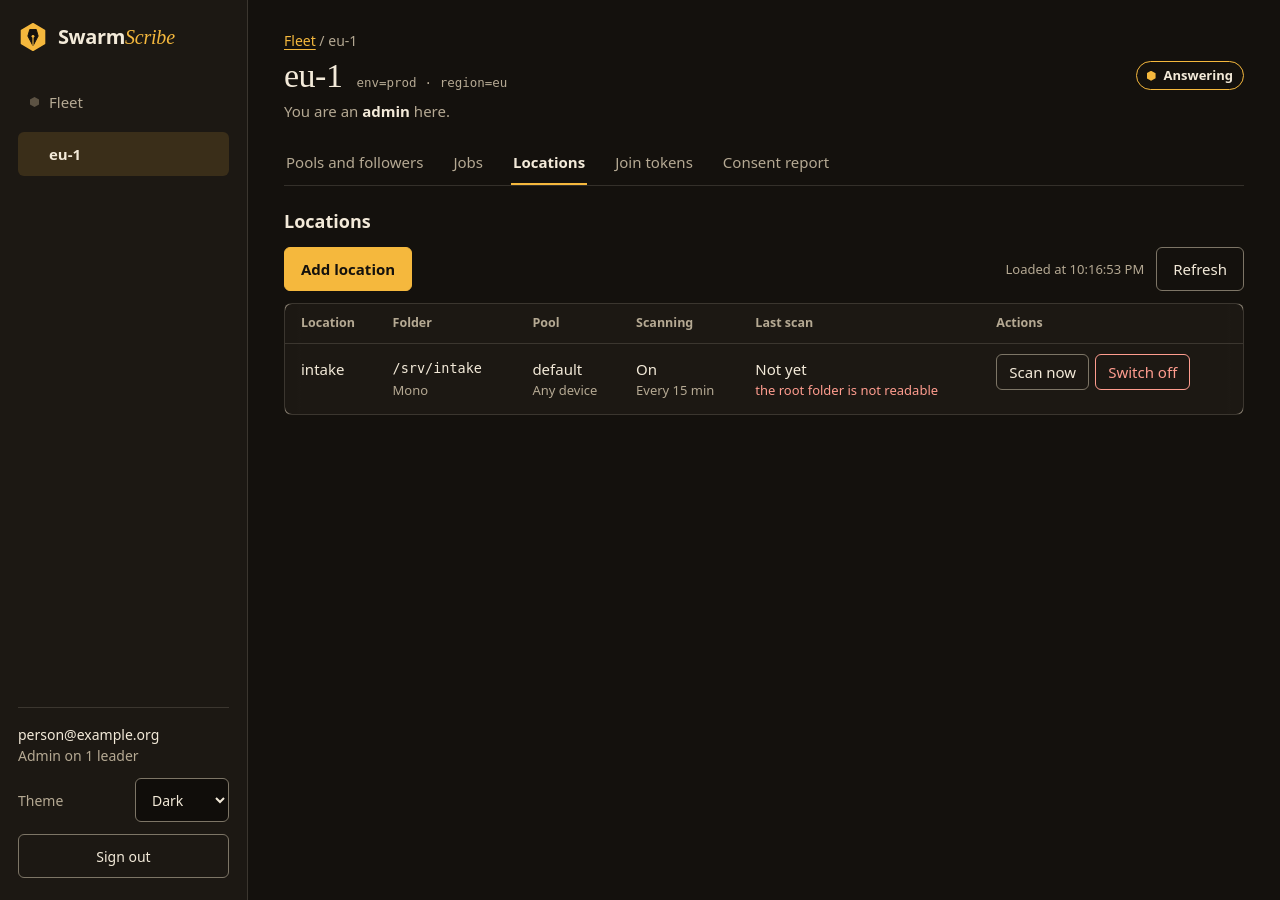
Scenario: locations tab › shows fixed text for a server 422, never the server's field paths
The image size is (1280, 900).
Click the button "Add location".
click(348, 269)  # box [284,247,412,291]
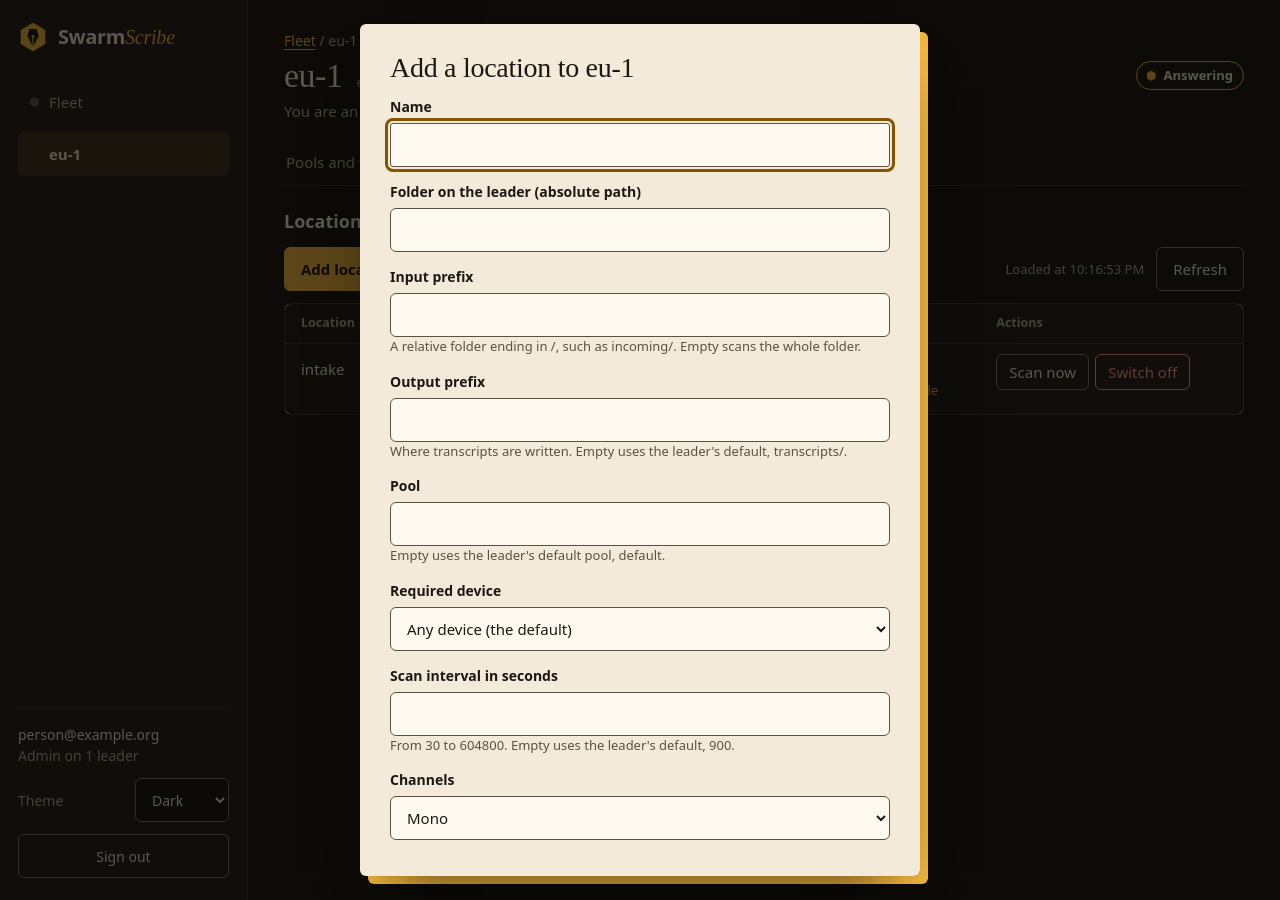
Type "calls" into the field labelled "Name".
click(640, 145); type("calls")  # box [390,123,890,167]
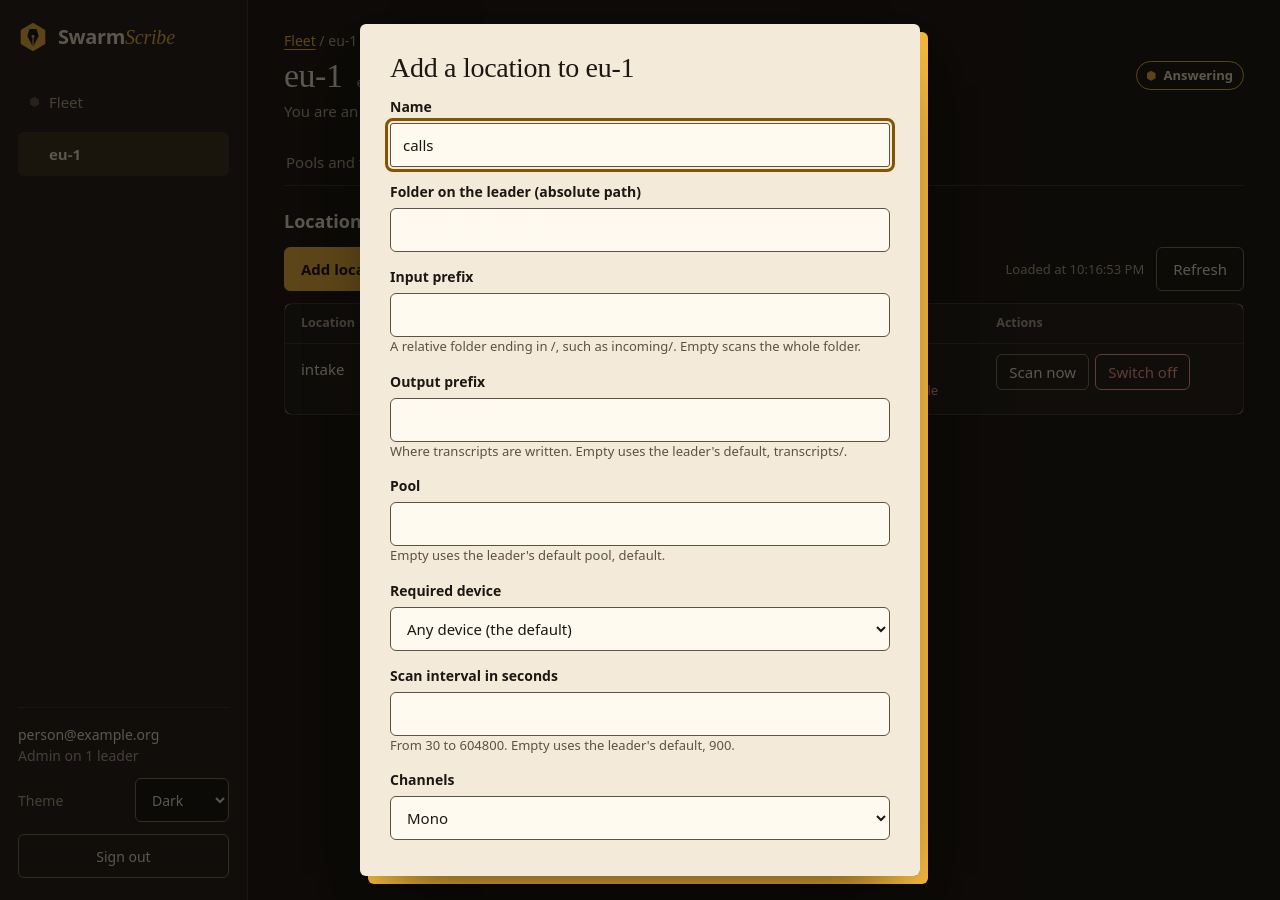
Type "/srv/calls" into the field labelled "Folder on the leader (absolute path)".
click(640, 230); type("/srv/calls")  # box [390,208,890,252]
(page scrolled)
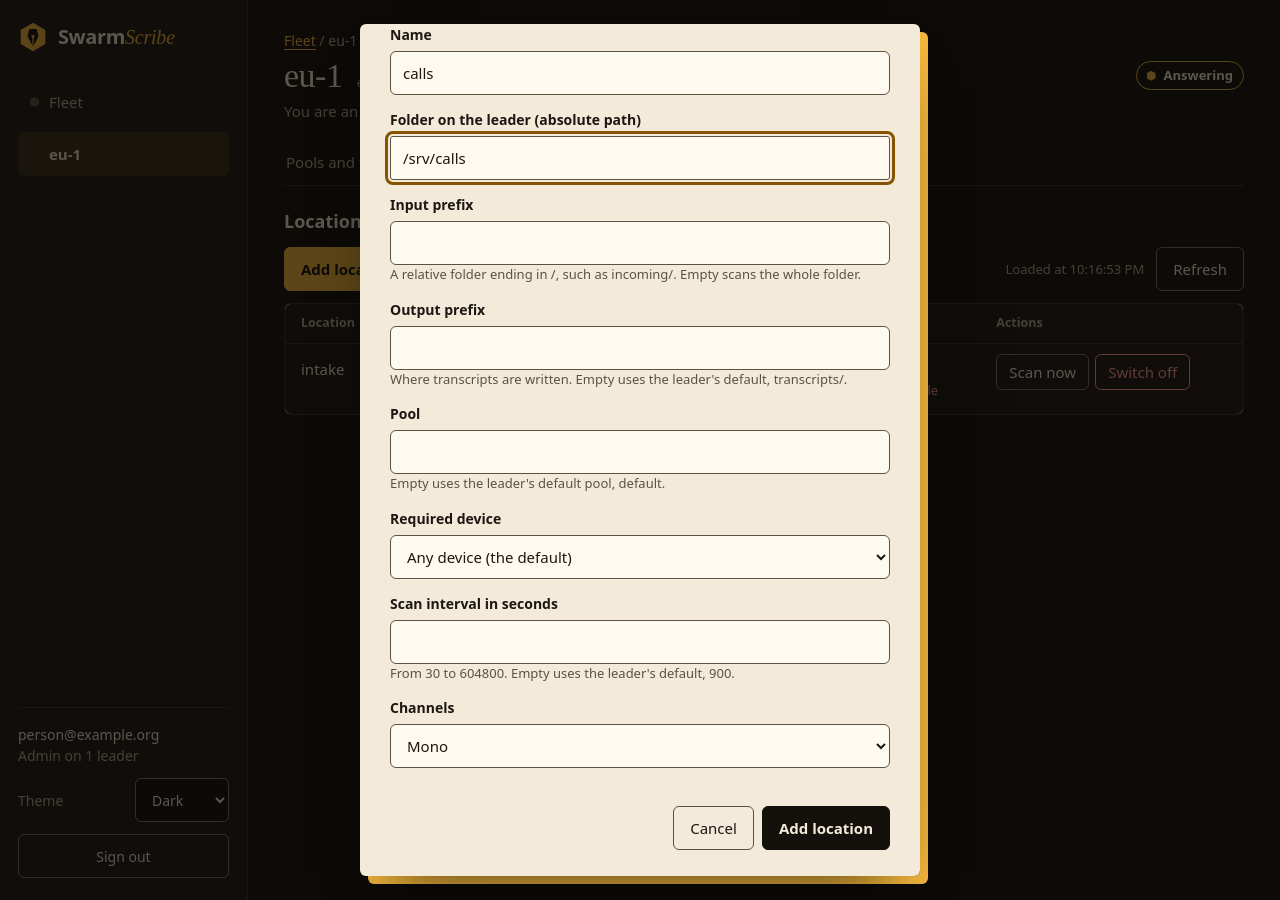
Click the button "Add location".
click(826, 828)  # box [762,806,890,850]
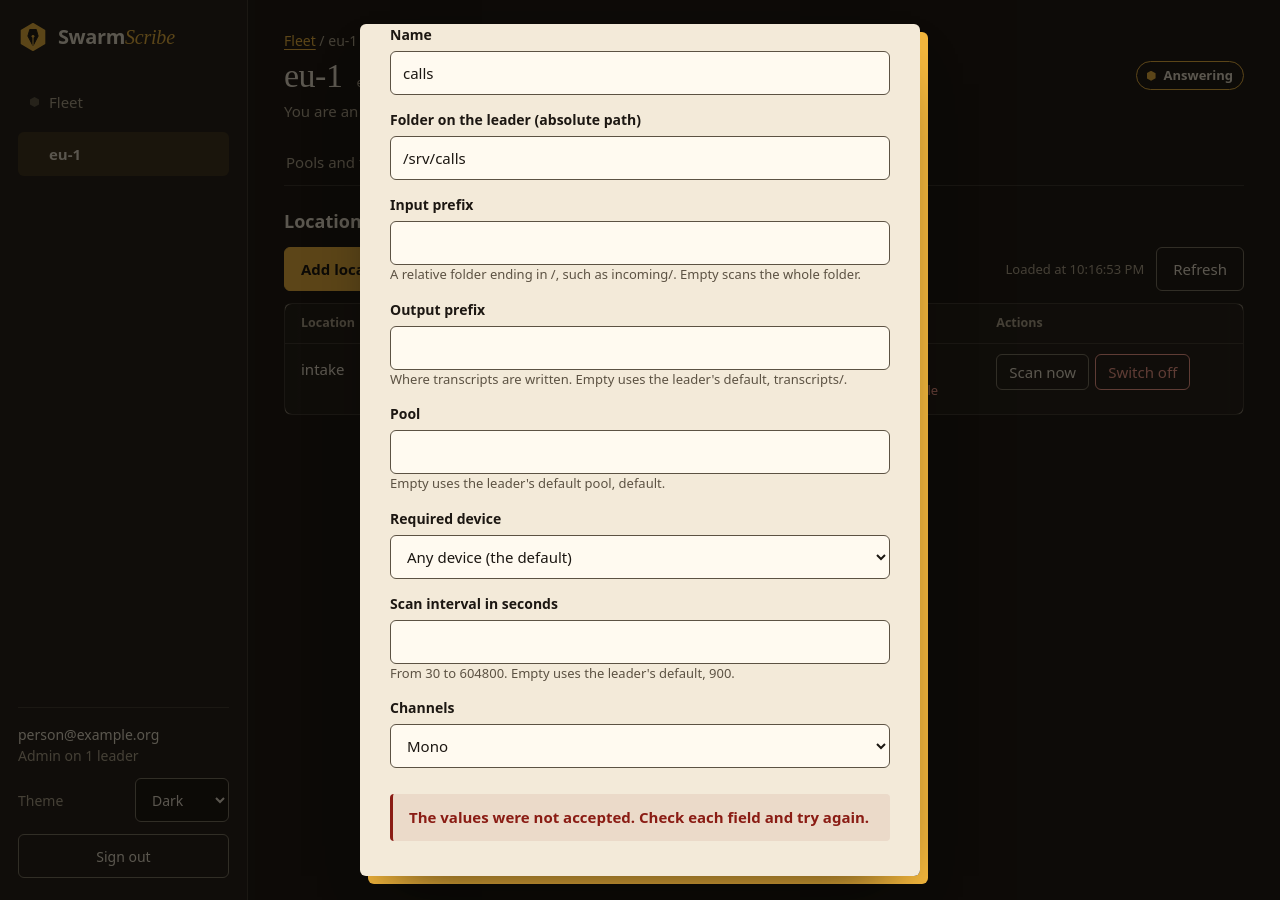
Expected: the dialog "Add a location to eu-1" does not show "body.root", [360,24,920,876]
Expected: the dialog is shown, [360,24,920,876]
Expected: the message reads "The values were not accepted. Check each field and try again.", [409,807,869,827]
